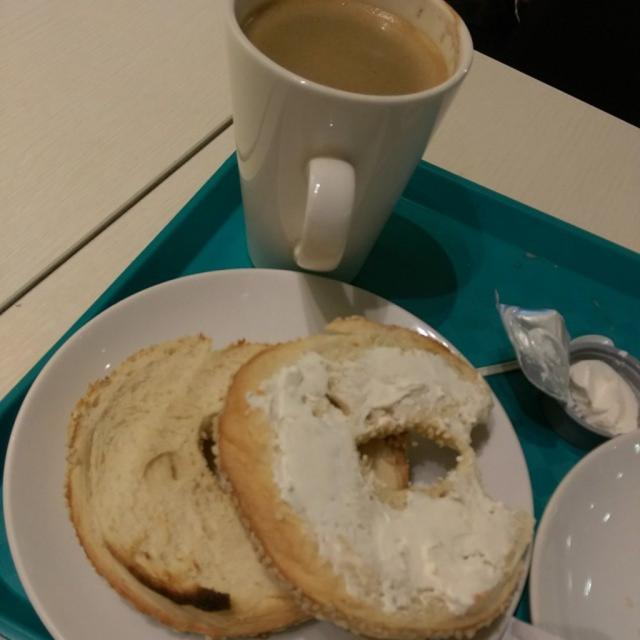Coffee: (231, 0, 481, 287)
